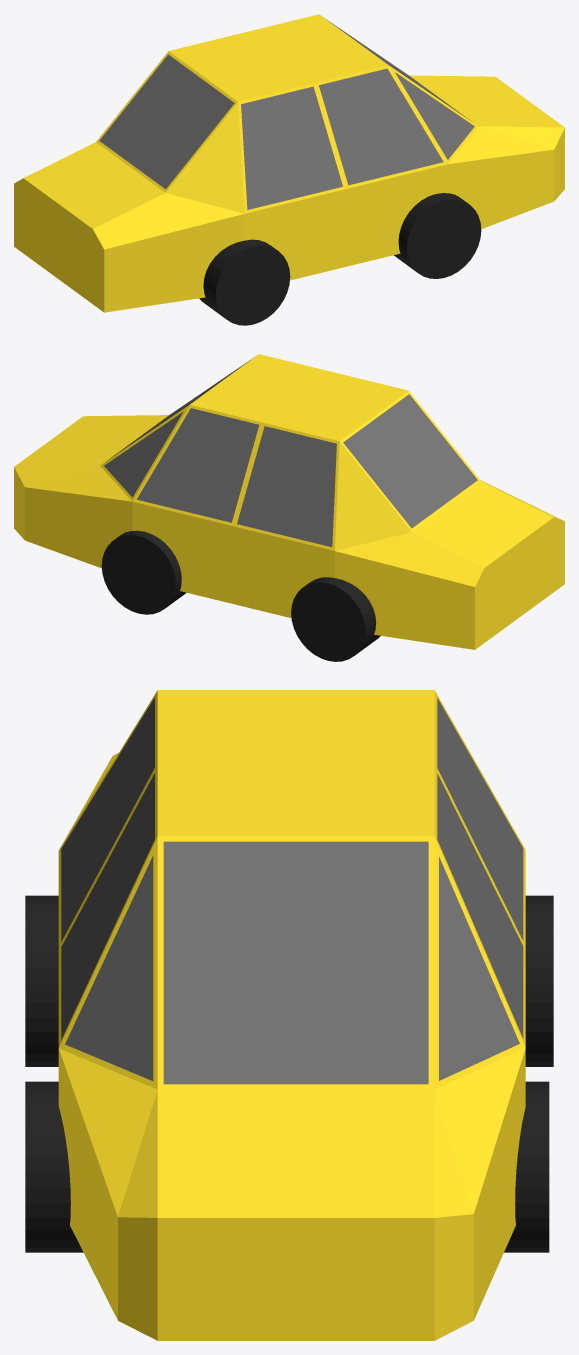
The model's file is important_car_model.fbx.
The picture shows the model from 3 angles, top to bottom: view 1: azimuth 30°, elevation 25°; view 2: azimuth 150°, elevation 25°; view 3: azimuth 270°, elevation 25°; orthographic projection. The views are drawn at different scales.
Parts seen in each view (by area): view 1: Cube; view 2: Cube; view 3: Cube.
Part boxes in pixels (x1=…): Cube: x1=14, y1=14, x2=564, y2=325; Cube: x1=14, y1=354, x2=564, y2=661; Cube: x1=25, y1=690, x2=553, y2=1340.
Bounding box in the file's own units: 909 × 357 × 442.
